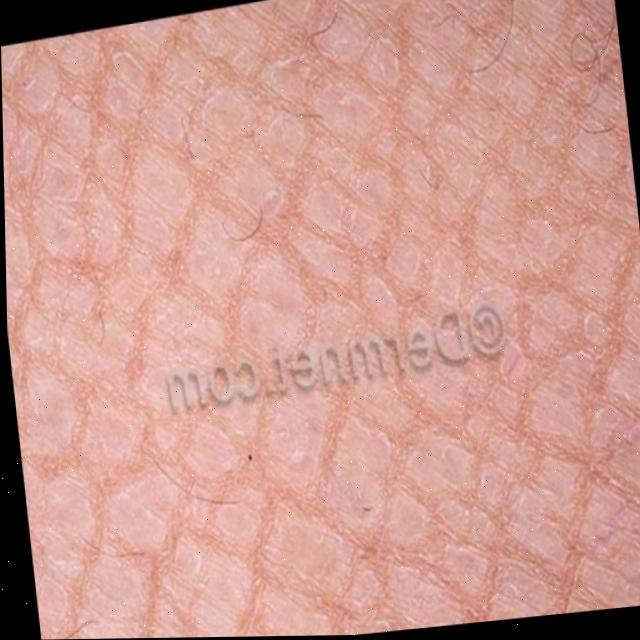Eczema: (55, 0, 640, 639)
